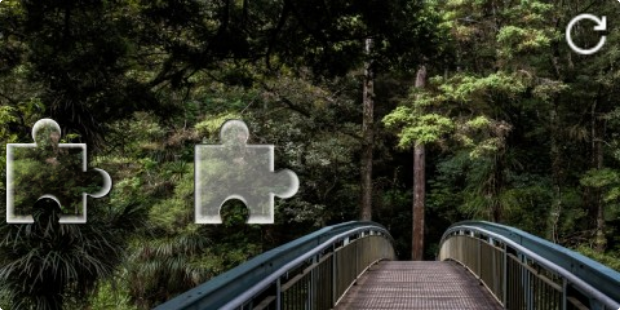target: (196, 119, 299, 225)
